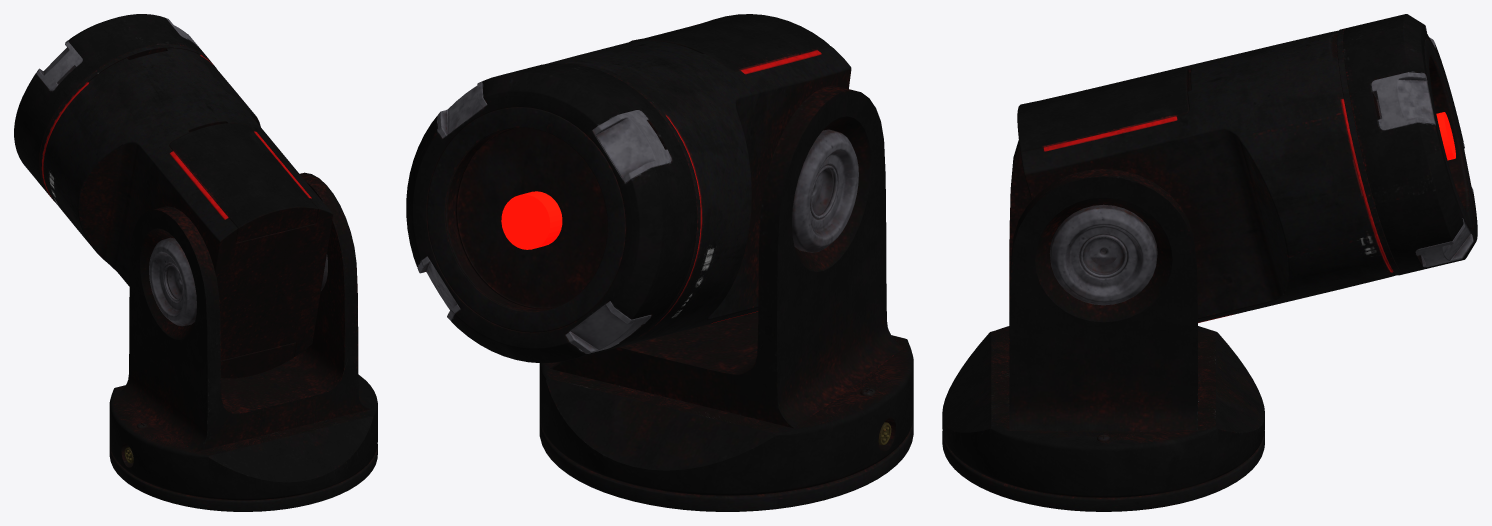
Rendered from Laser 2  FINALUpgrade.fbx.
3 renders of one model, left to right at view 1: azimuth 30°, elevation 25°; view 2: azimuth 150°, elevation 25°; view 3: azimuth 270°, elevation 25°, orthographic. The views are drawn at different scales.
Parts seen in each view (by area): view 1: light_1.001_low.001, light_1.003_low.001, light_1.012_low.001, light_1.005_low.001, light_1.010_low.001, light_1.002_low.001, light_1.006_low.001, light_1.004_low.001, light_1.013_low.001; view 2: light_1.001_low.001, light_1.007_low.001, light_1.003_low.001, light_1.005_low.001, light_1.004_low.001, light_1.010_low.001, light_1.002_low.001, light_1.012_low.001, Cylinder, light_1.006_low.001; view 3: light_1.001_low.001, light_1.003_low.001, light_1.005_low.001, light_1.002_low.001, light_1.012_low.001, light_1.010_low.001, light_1.004_low.001, light_1.007_low.001, light_1.006_low.001, light_1.013_low.001, light_1_low.001.
Part boxes in pixels (x1,y1,x2,y2): light_1.001_low.001: (109,172,377,500); light_1.003_low.001: (43,48,333,360); light_1.012_low.001: (169,123,317,378); light_1.005_low.001: (14,14,209,192); light_1.010_low.001: (109,444,377,511); light_1.002_low.001: (149,237,327,326); light_1.006_low.001: (39,44,216,201); light_1.004_low.001: (23,18,199,181); light_1.013_low.001: (169,131,311,219); light_1.001_low.001: (539,39,913,495); light_1.007_low.001: (427,107,625,332); light_1.003_low.001: (545,19,851,347); light_1.005_low.001: (406,63,697,363); light_1.004_low.001: (417,81,671,353); light_1.010_low.001: (539,418,913,511); light_1.002_low.001: (792,129,858,252); light_1.012_low.001: (629,14,829,324); Cylinder: (501,191,562,249); light_1.006_low.001: (540,62,700,348); light_1.001_low.001: (942,140,1264,497); light_1.003_low.001: (1020,30,1396,322); light_1.005_low.001: (1343,14,1477,273); light_1.002_low.001: (1049,204,1157,305); light_1.012_low.001: (1017,65,1245,322); light_1.010_low.001: (942,430,1264,511); light_1.004_low.001: (1371,25,1473,267); light_1.007_low.001: (1424,38,1473,228); light_1.006_low.001: (1337,28,1403,275); light_1.013_low.001: (1043,116,1232,322); light_1_low.001: (1341,99,1393,272).
Bounding box in the file's own units: 254 × 363 × 421.
